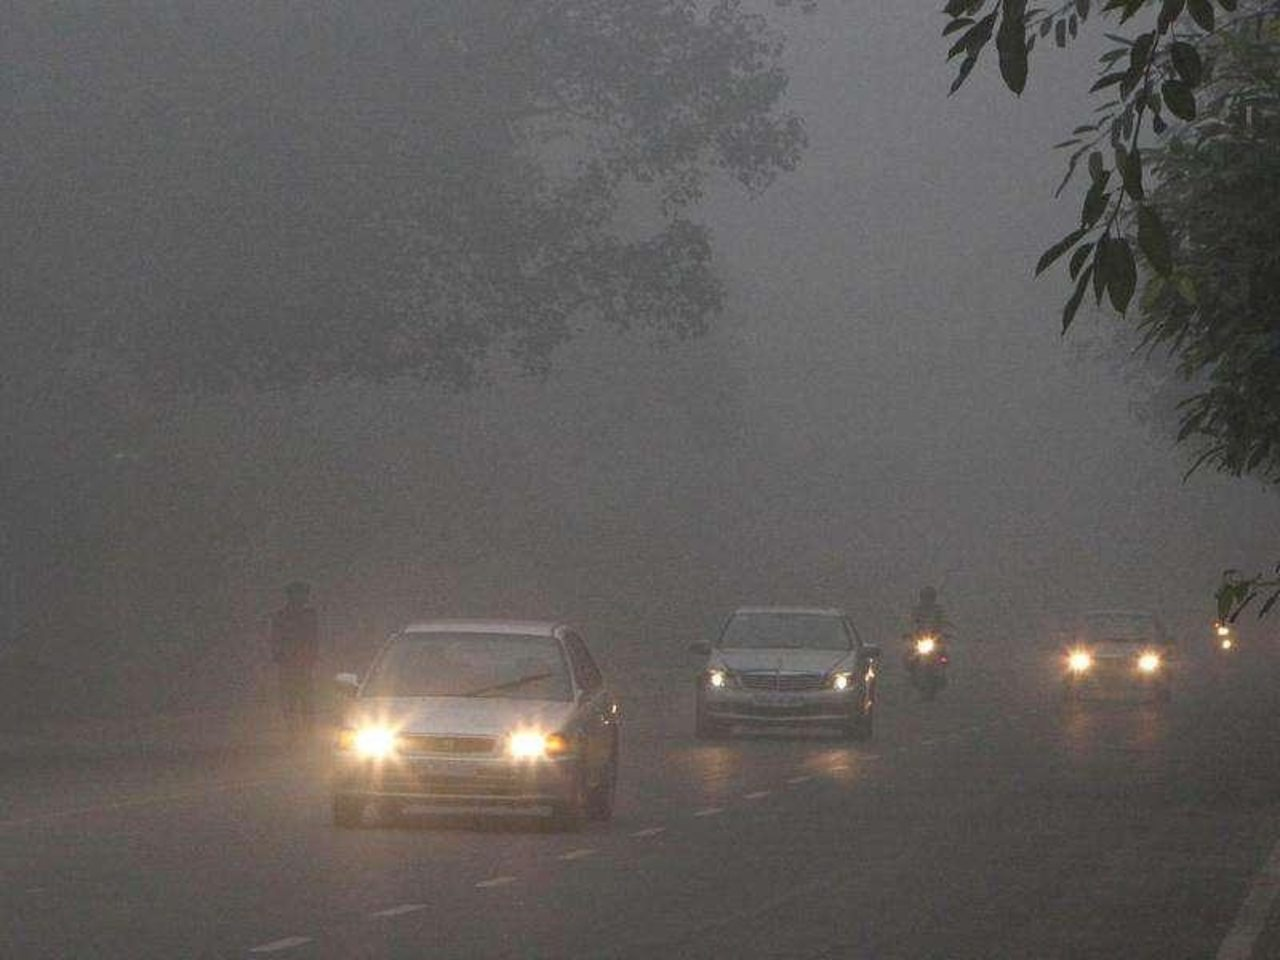car: (325, 615, 627, 836), (692, 605, 884, 740), (1062, 607, 1180, 708), (1169, 593, 1246, 668)
motorcycle: (899, 633, 955, 702)
person: (271, 582, 330, 753), (904, 578, 953, 659)
